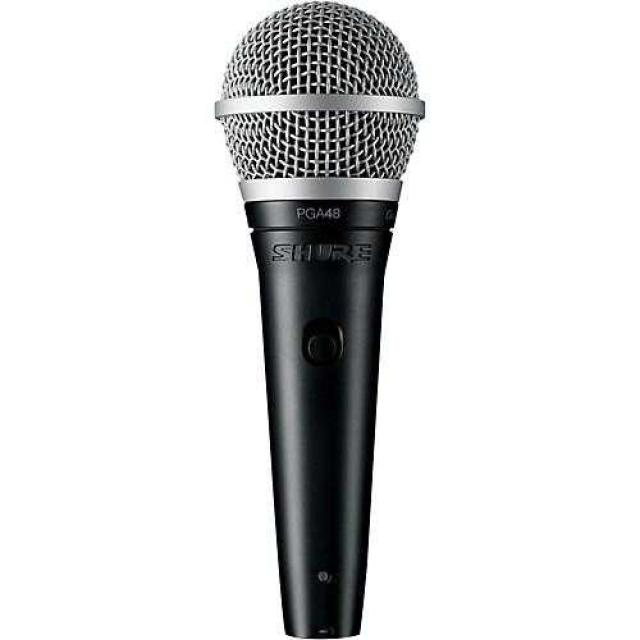microphone: (208, 18, 443, 612)
